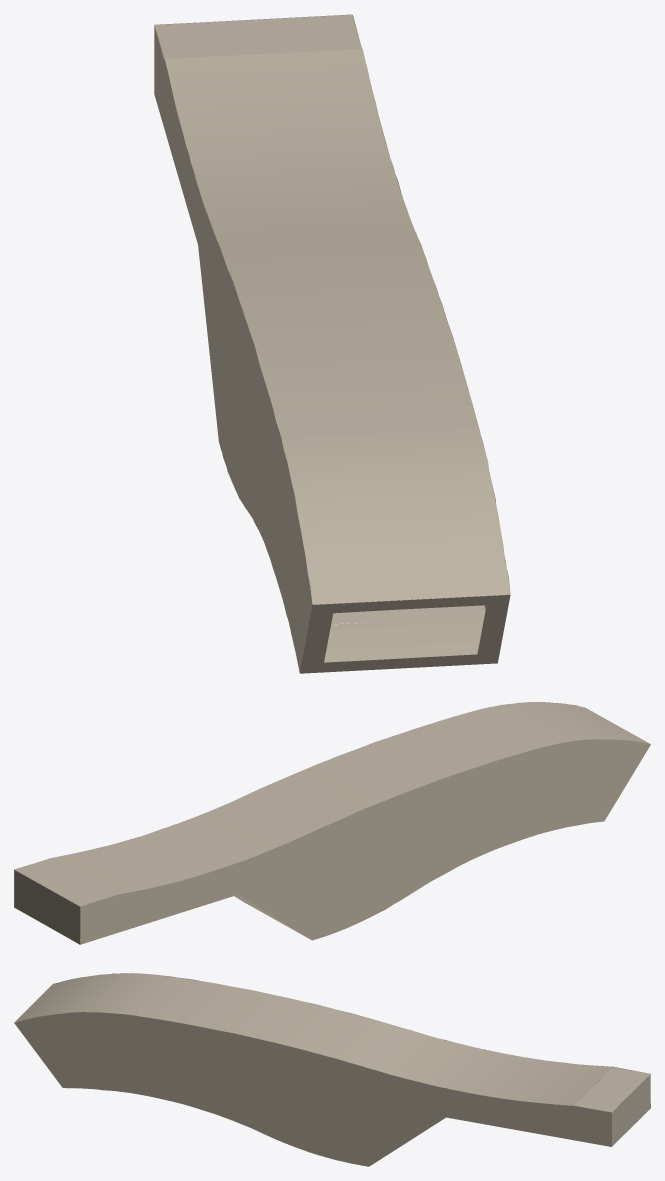
File: original_10.obj
3 renders of one model, top to bottom at view 1: azimuth 30°, elevation 25°; view 2: azimuth 150°, elevation 25°; view 3: azimuth 270°, elevation 25°, orthographic. The views are drawn at different scales.
Visible parts, largest first — view 1: #ID199; view 2: #ID199; view 3: #ID199.
Boxes of the visible parts, x1,y1,x2,y2 form: #ID199: (154, 14, 510, 673); #ID199: (14, 702, 650, 944); #ID199: (14, 973, 650, 1166).
Size of the model in its own units: 0.1809 by 0.0637 by 0.3332.
